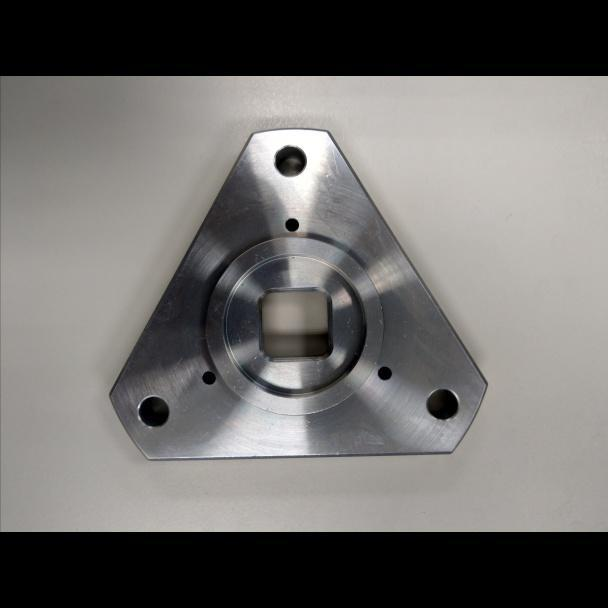hole: (423, 381, 464, 424), (270, 138, 310, 181), (135, 392, 176, 432), (372, 361, 394, 385), (200, 368, 217, 389), (282, 216, 300, 234)
